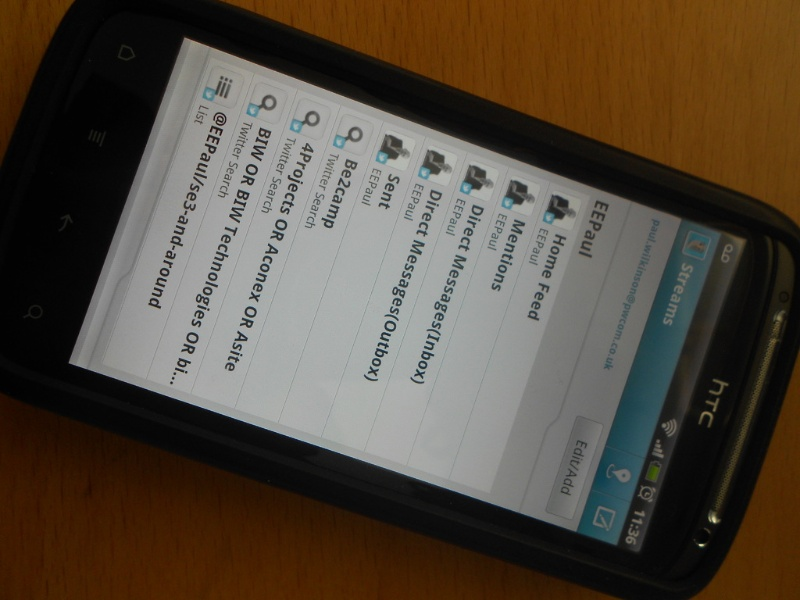cellphone: (4, 1, 787, 600)
